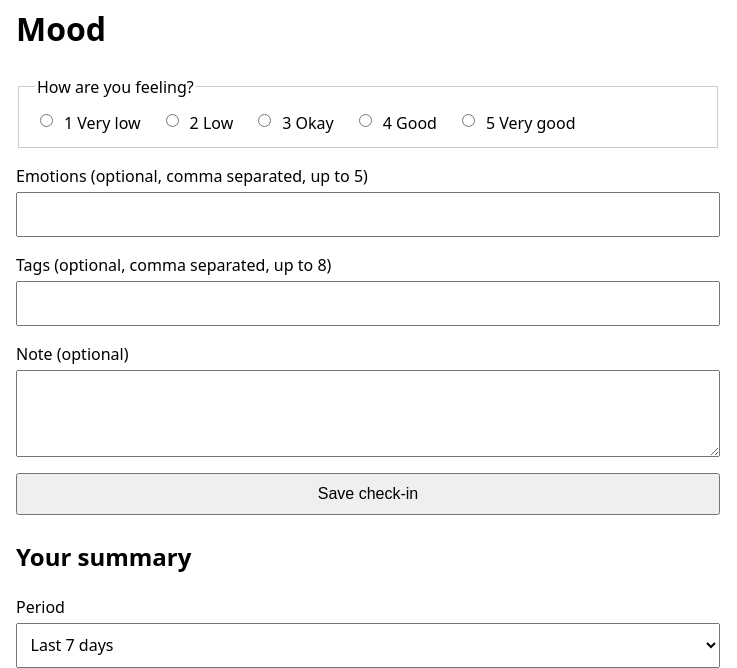
Test case: MoodPage › asks for a mood before saving
This screenshot has width=737, height=668.
Click the button "Save check-in".
click(368, 494)  # box [16, 473, 720, 515]
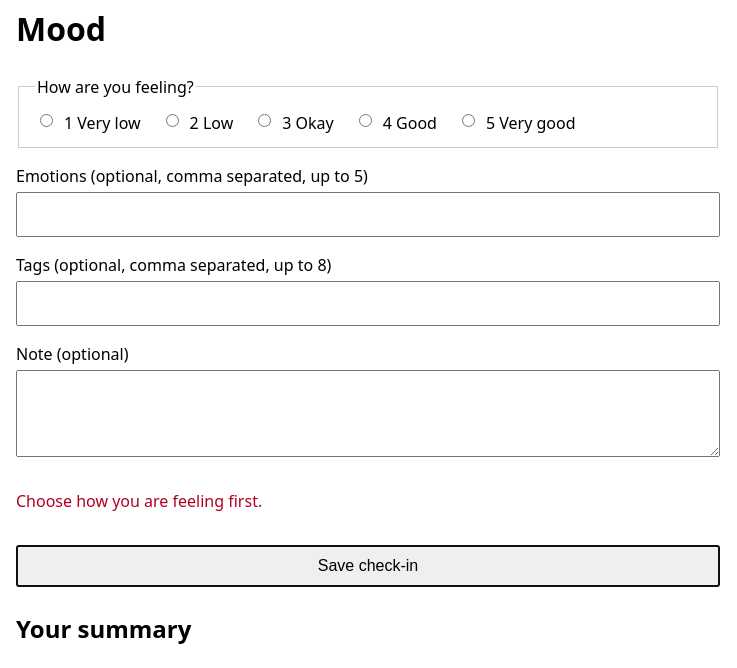
Check: the message reads "Choose how you are feeling first.", box [16, 490, 262, 512]
